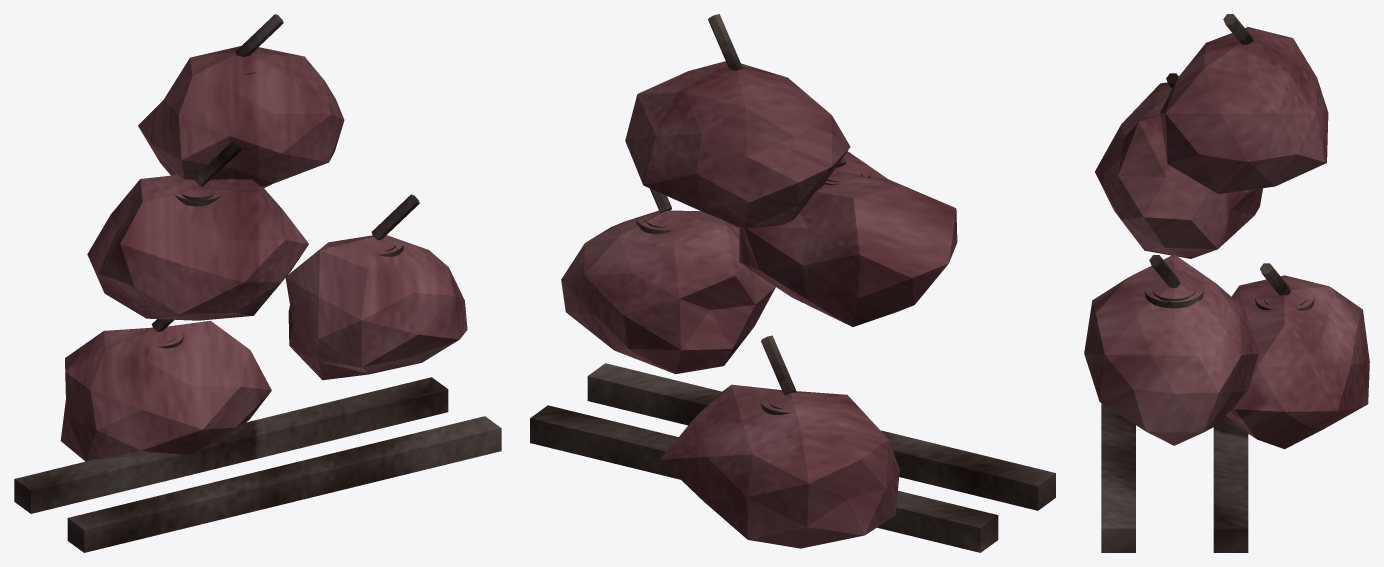
Rendered from 0805_sack_stack_05.glb.
3 views of the same model, side by side, from view 1: azimuth 30°, elevation 25°; view 2: azimuth 150°, elevation 25°; view 3: azimuth 270°, elevation 25° (orthographic). The views are drawn at different scales.
Visible parts, largest first — view 1: cloth, wood_dark; view 2: cloth, wood_dark; view 3: cloth, wood_dark.
Part boxes in pixels (box(x1,y1,x2,y2)): cloth: box(60, 46, 467, 461); wood_dark: box(14, 14, 501, 552); cloth: box(561, 61, 957, 548); wood_dark: box(530, 14, 1055, 552); cloth: box(1084, 27, 1369, 449); wood_dark: box(1101, 14, 1314, 552).
Size of the model in its own units: 1.9 by 1.95 by 1.07.
2 materials, 2 textured.
